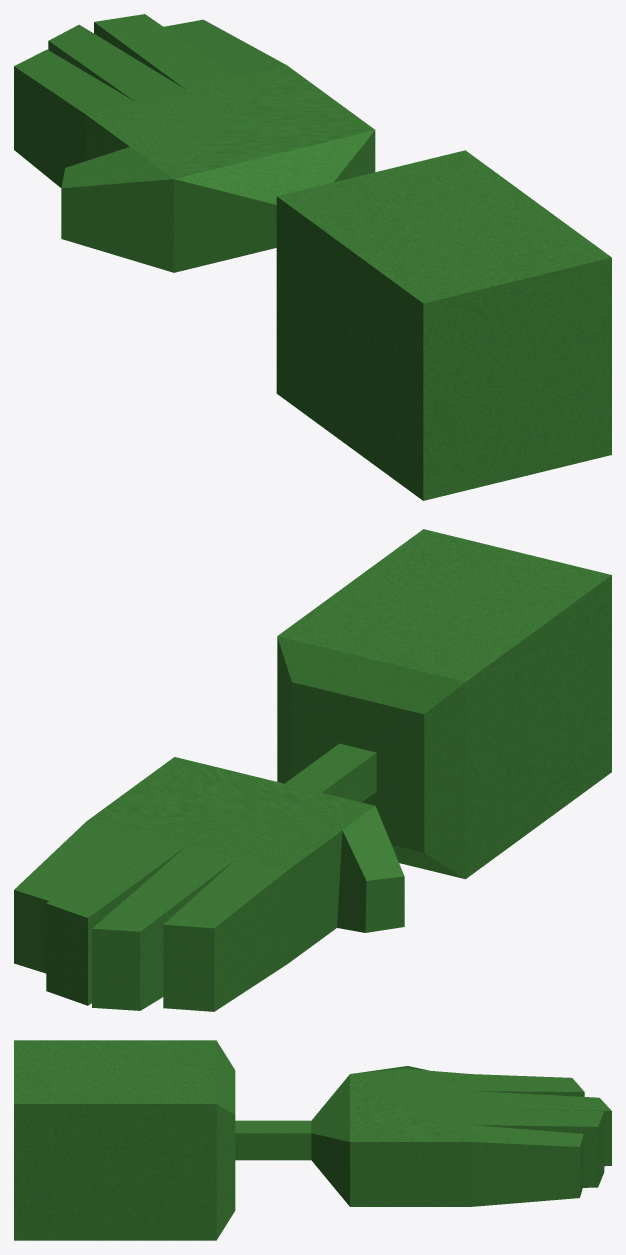
The model's file is statue_share_hand.FBX.
3 renders of one model, top to bottom at view 1: azimuth 30°, elevation 25°; view 2: azimuth 150°, elevation 25°; view 3: azimuth 270°, elevation 25°, orthographic. The views are drawn at different scales.
Parts seen in each view (by area): view 1: statue_3; view 2: statue_3; view 3: statue_3.
Part boxes in pixels (x1,y1,x2,y2): statue_3: [14, 14, 611, 500]; statue_3: [14, 529, 611, 1011]; statue_3: [14, 1040, 611, 1240].
Size of the model in its own units: 70.55 by 48.91 by 194.
